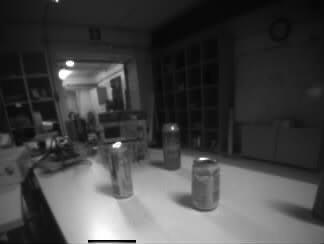Tin can: (192, 158, 219, 209), (109, 144, 134, 196), (162, 122, 180, 169)
